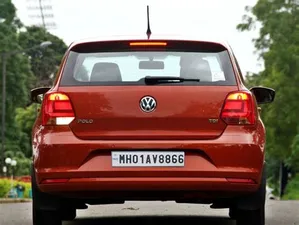number_plate: (102, 147, 202, 172)
